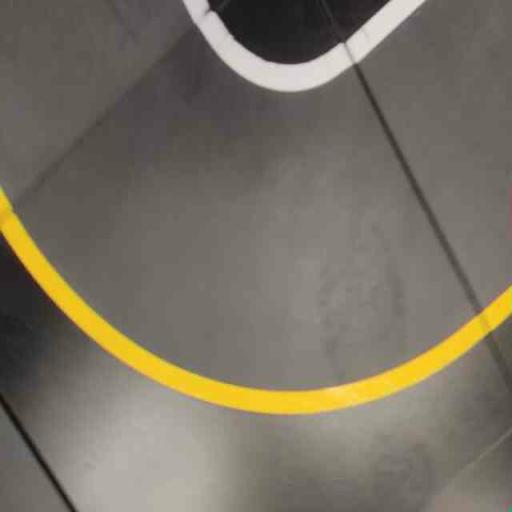right: (0, 0, 503, 493)
